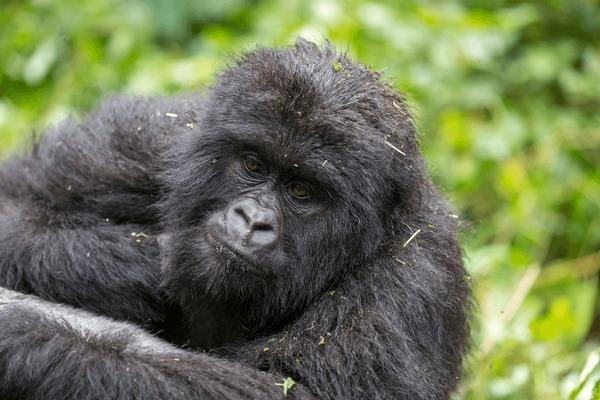goriile_montagne: (0, 15, 448, 400)
